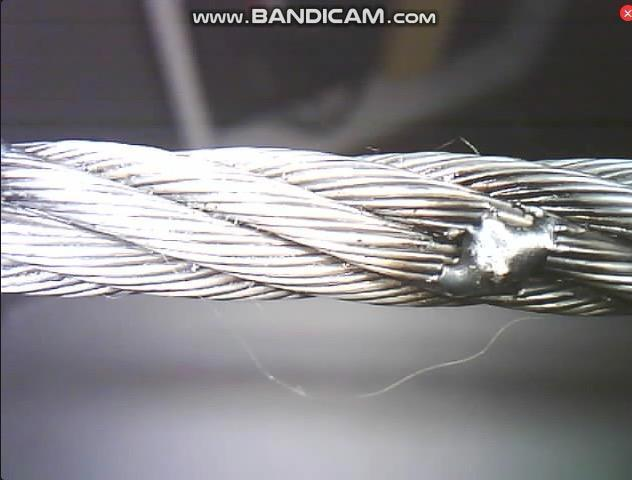thunderbolt: (442, 189, 580, 309)
